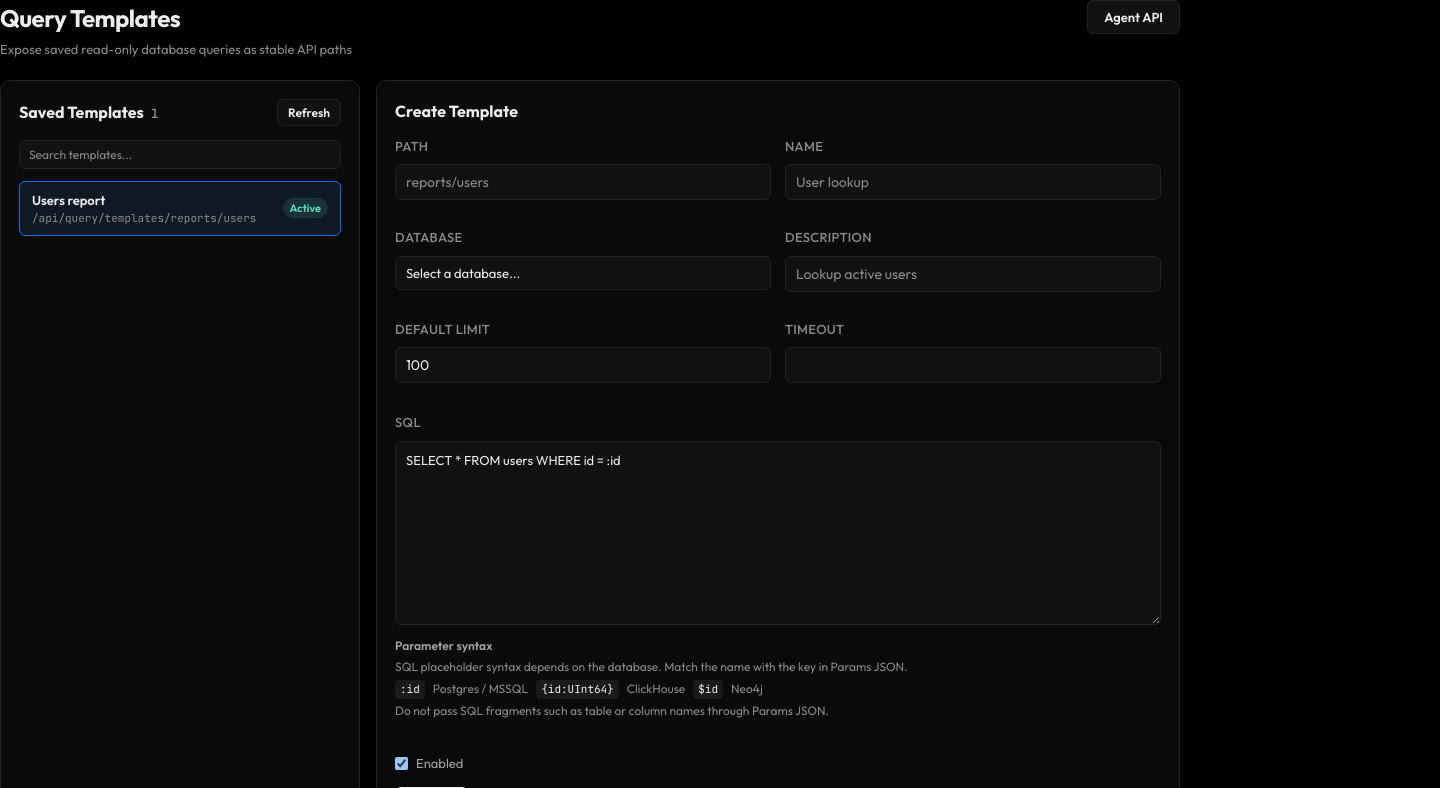
Test: QueryTemplates › opens the agent API guide from the page header
Click the button "Agent API". click: [1134, 17]
box: [1087,0,1180,34]
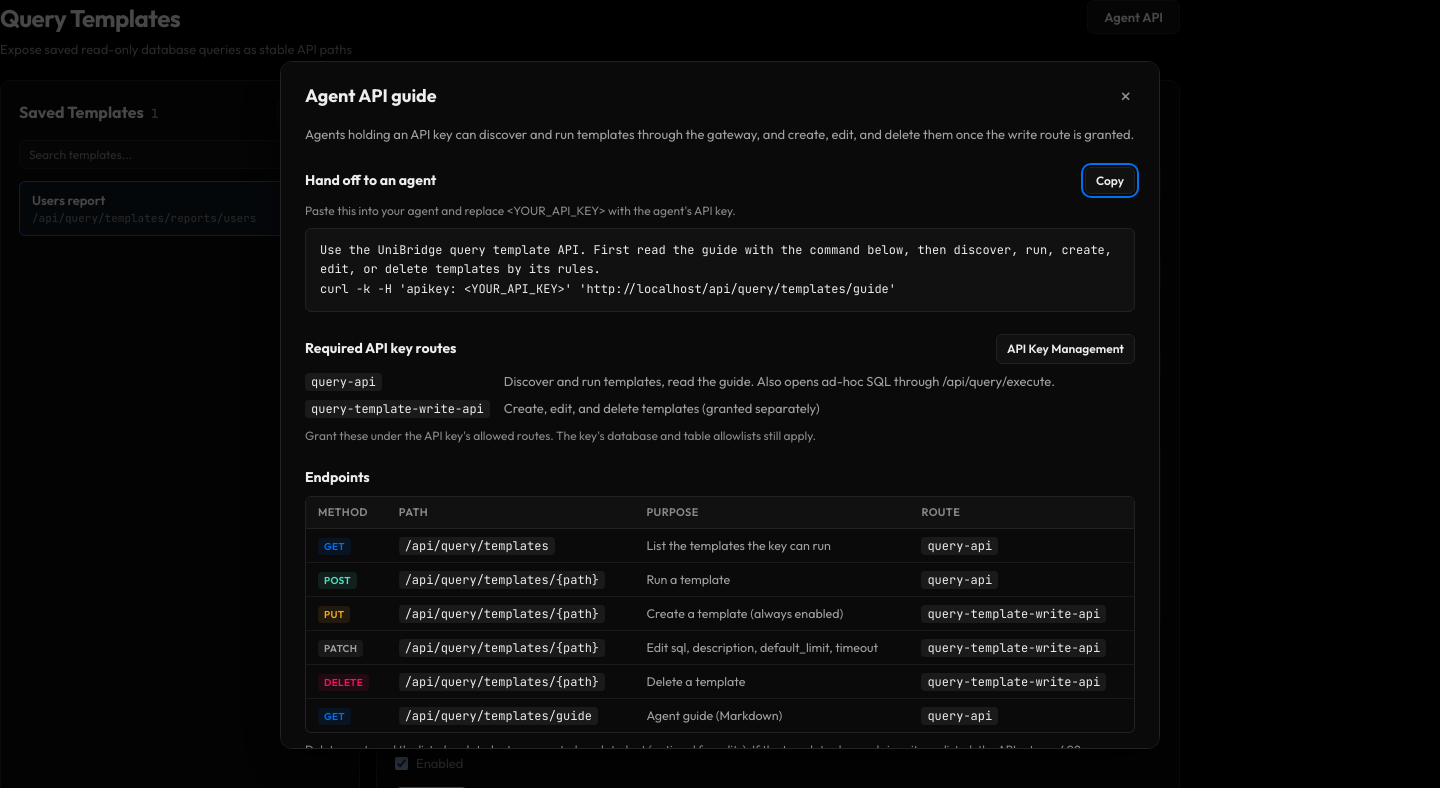
Check: the text "query-api" below "Required API key routes" is shown, box [311,374,376,390]
Check: the text "query-template-write-api" below "Required API key routes" is shown, box [311,401,484,417]
Check: the row "PATCH /api/query/templates/{path}" shows "query-template-write-api", box [927,640,1100,656]
Click the button with aria-label "Copy agent hand-off text". click: [1110, 180]
box: [1085,166,1135,194]
(page scrolled)
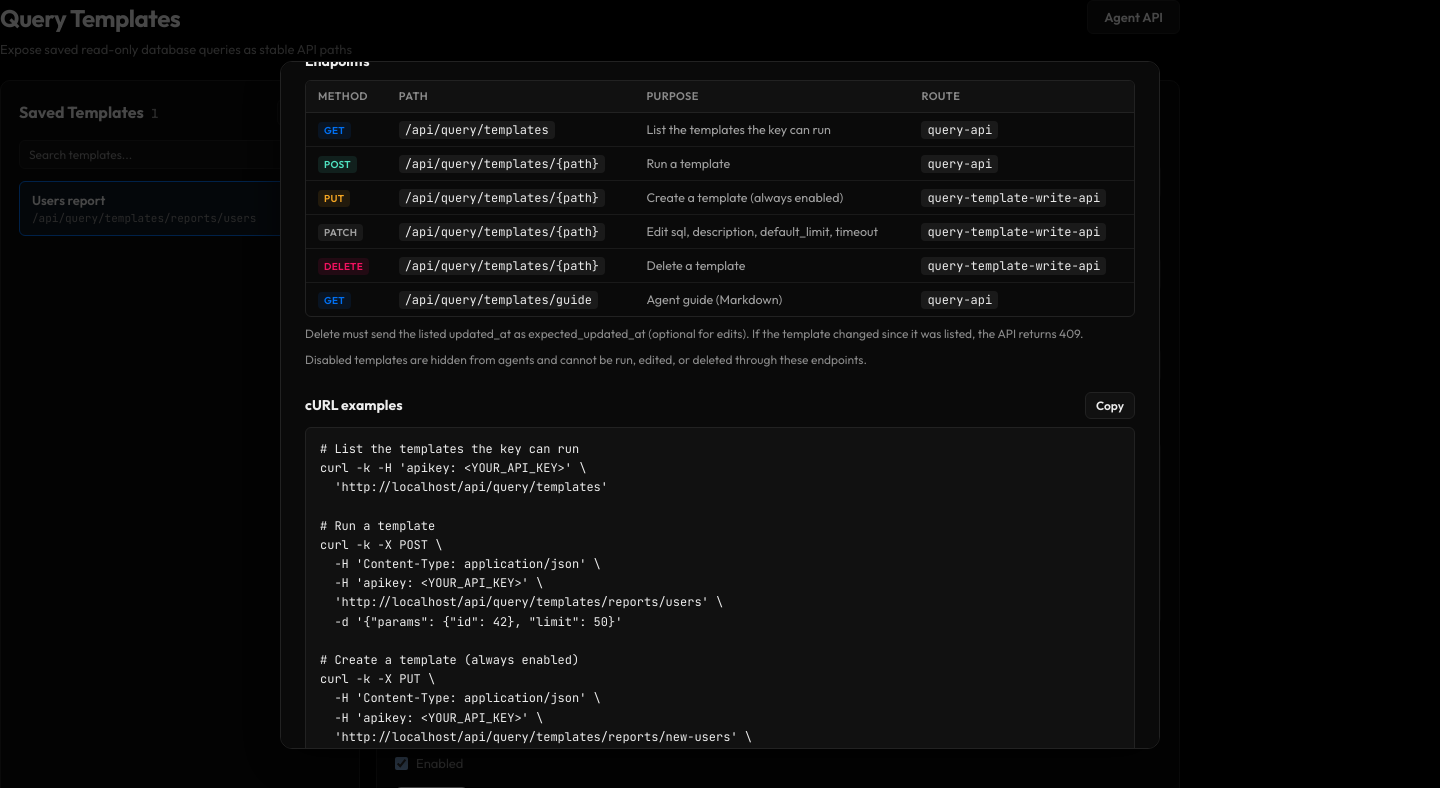
Click the button with aria-label "Copy cURL command". click: [1110, 406]
box: [1085,392,1135,419]
(page scrolled)
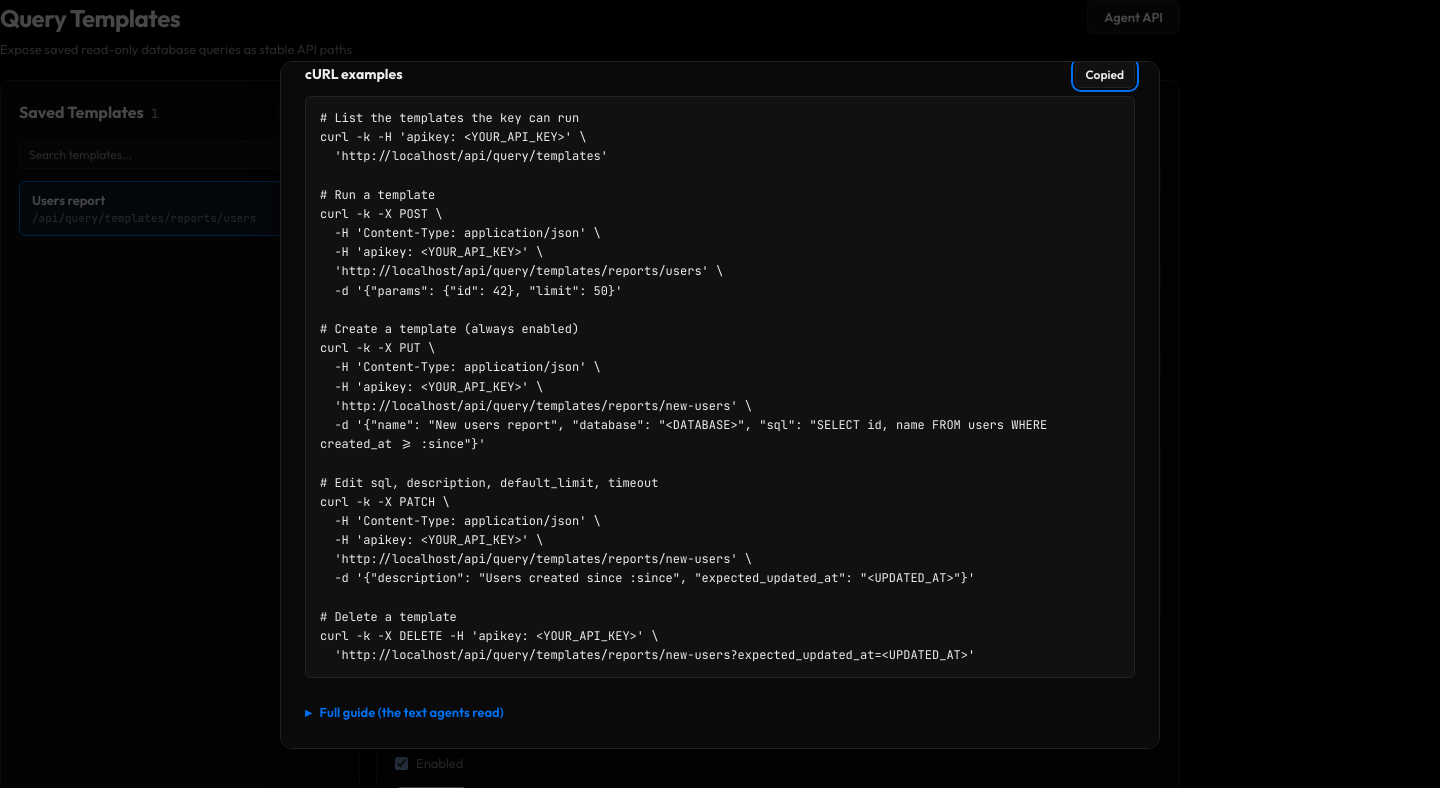
Check: the button with aria-label "cURL command copied" reads "Copied", box [1074,61,1135,88]
Click the button "▸ Full guide (the text agents read)". click: [404, 712]
box: [305,700,504,724]
(page scrolled)
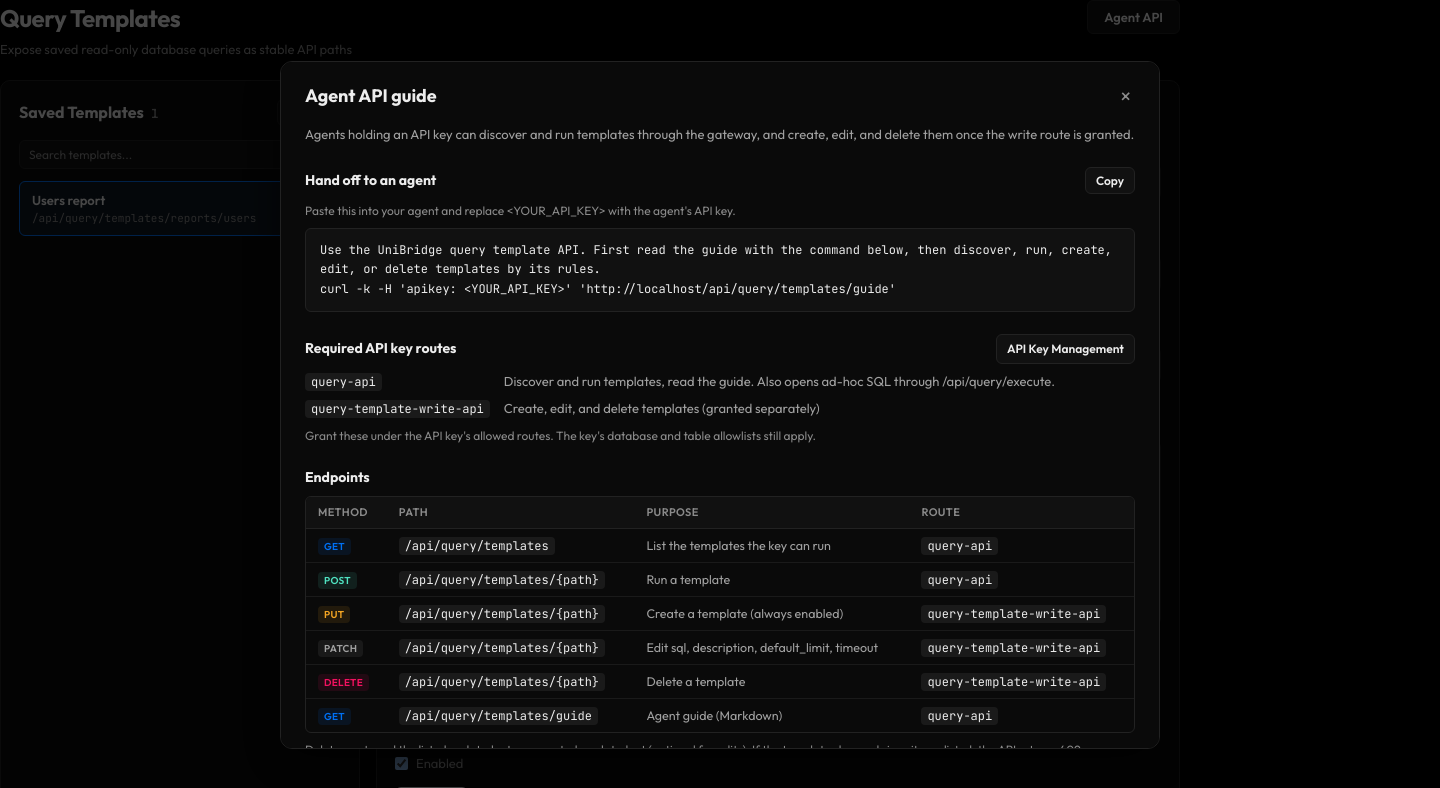
Click the button named "Close". click: [1126, 96]
box: [1116,82,1135,110]
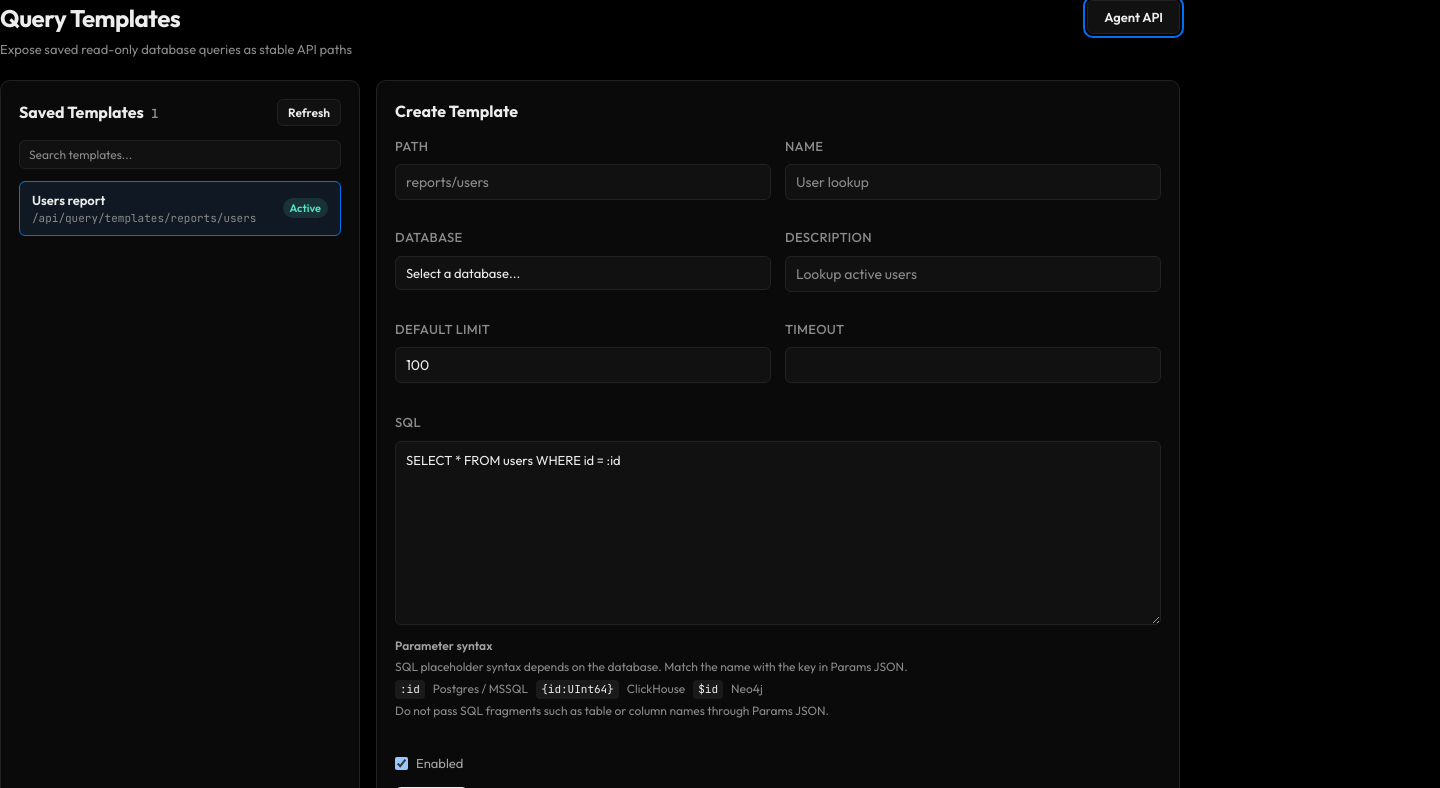
Check: the dialog is gone
